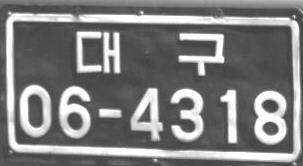0: (19, 83, 52, 138)
1: (215, 89, 245, 144)
3: (171, 86, 204, 142)
4: (130, 87, 162, 141)
6: (58, 85, 91, 140)
8: (252, 89, 288, 145)
대구_D: (76, 31, 224, 76)
